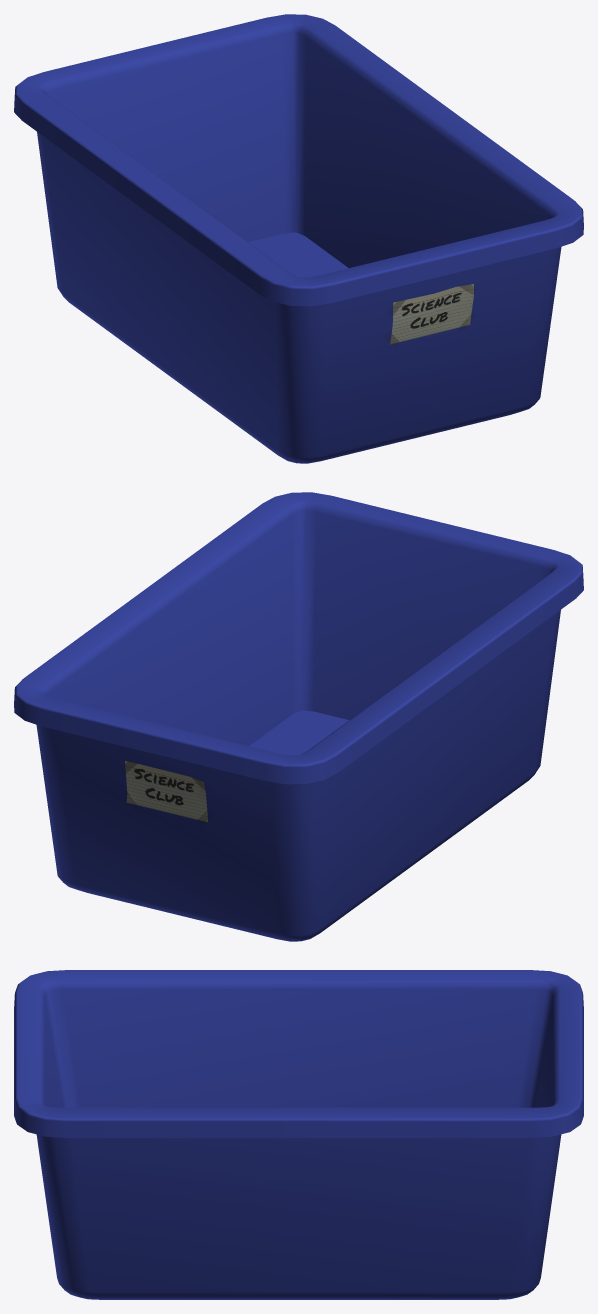
The model's file is SM_Plastic_Container_01a.fbx.
3 renders of one model, top to bottom at view 1: azimuth 30°, elevation 25°; view 2: azimuth 150°, elevation 25°; view 3: azimuth 270°, elevation 25°, orthographic. The views are drawn at different scales.
Visible parts, largest first — view 1: SM_Plastic_Container_01a_LOD0; view 2: SM_Plastic_Container_01a_LOD0; view 3: SM_Plastic_Container_01a_LOD0.
Boxes of the visible parts, box(x1,y1,x2,y2) form: SM_Plastic_Container_01a_LOD0: box(14, 14, 583, 463); SM_Plastic_Container_01a_LOD0: box(14, 492, 583, 941); SM_Plastic_Container_01a_LOD0: box(14, 970, 583, 1299).
Size of the model in its own units: 38.57 by 61.51 by 23.8.
